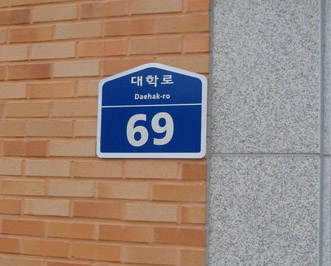building_license_plate1: (96, 62, 207, 158)
